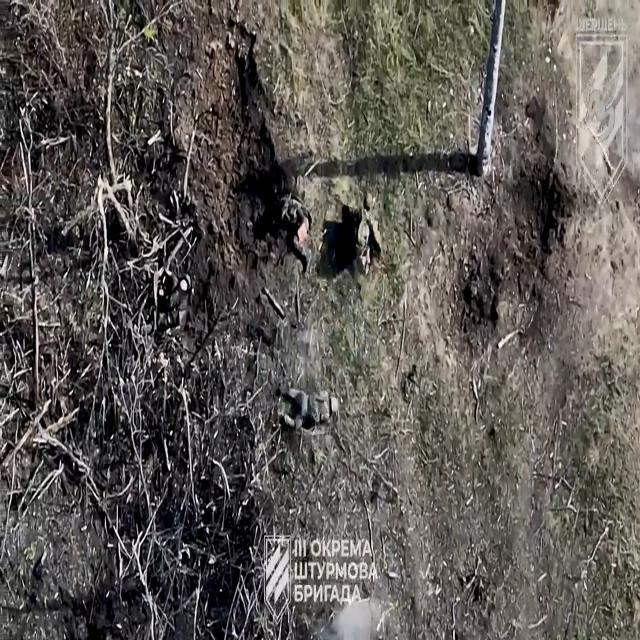MIL_Pax: (279, 384, 339, 428), (281, 196, 311, 271), (358, 198, 381, 272)
